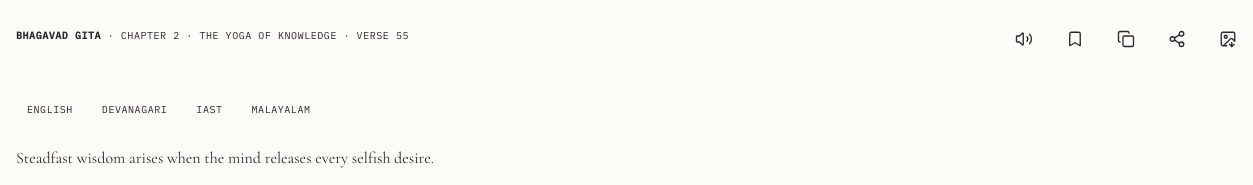
Scenario: custom audio receives an AbortSignal and Stop aborts only that playback
Click the button named "Listen in English" at (1024, 39), box x1=1002 y1=17 x2=1046 y2=61
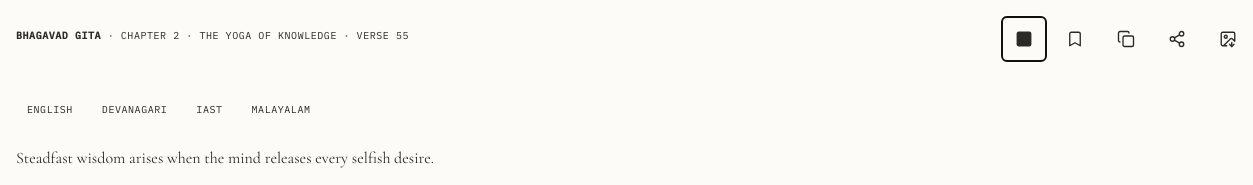
Click the button named "Stop reading aloud" at (1024, 39), box x1=1002 y1=17 x2=1046 y2=61
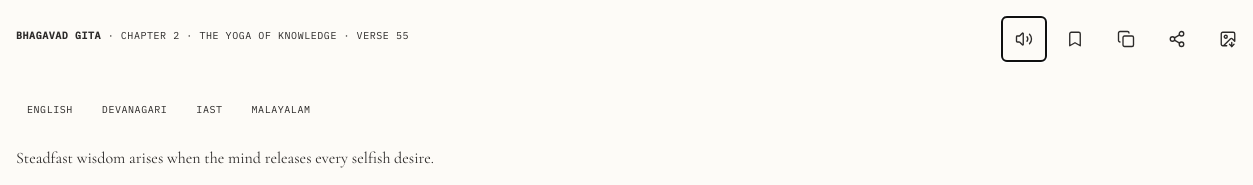
Expected: the button named "Listen in English" is shown, x1=1002 y1=17 x2=1046 y2=61
